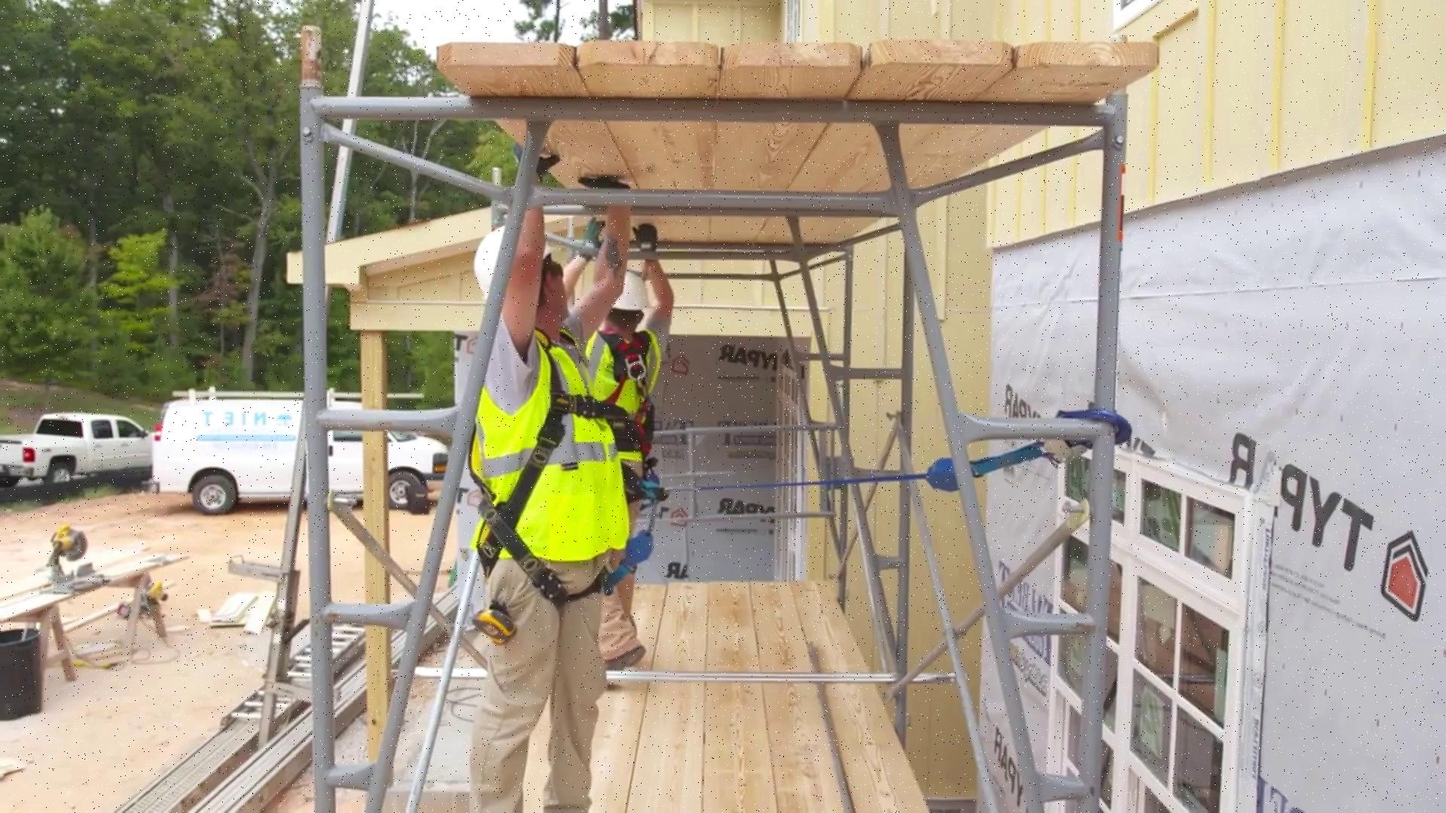Vest: (460, 330, 637, 572), (577, 319, 673, 459)
